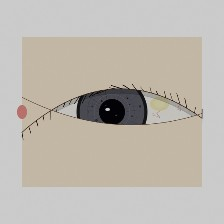pinguecula_lesion: (140, 88, 179, 119)
